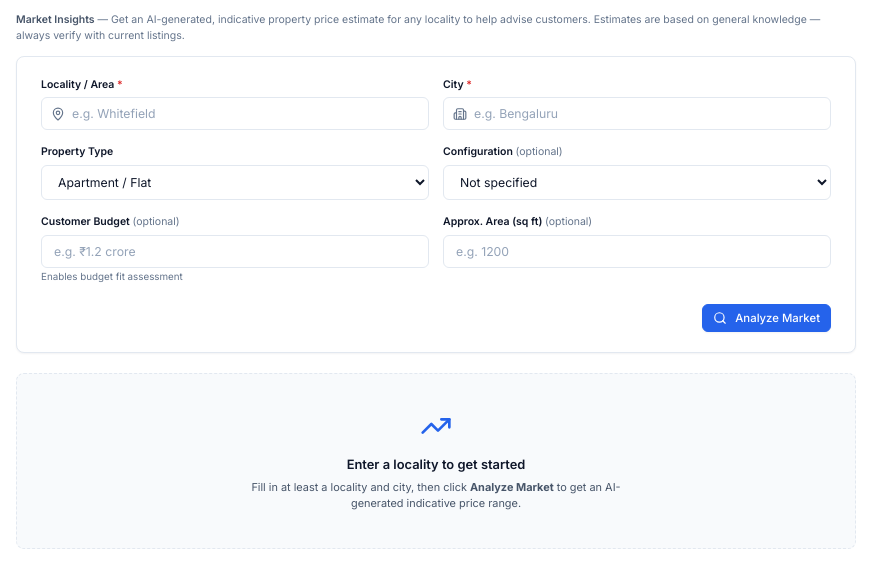
it: MarketInsights — Validation › shows validation error if locality is missing
Type "Bengaluru" into the field with placeholder "e.g. Bengaluru".
click(637, 114); type("Bengaluru")  # box [443,97,831,130]
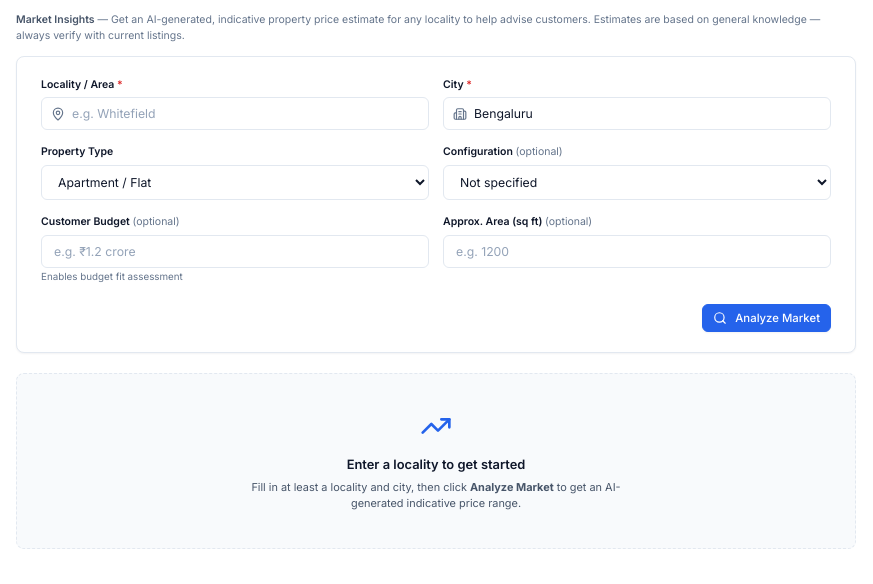
Click the button "Analyze Market".
click(767, 318)  # box [702,304,831,332]
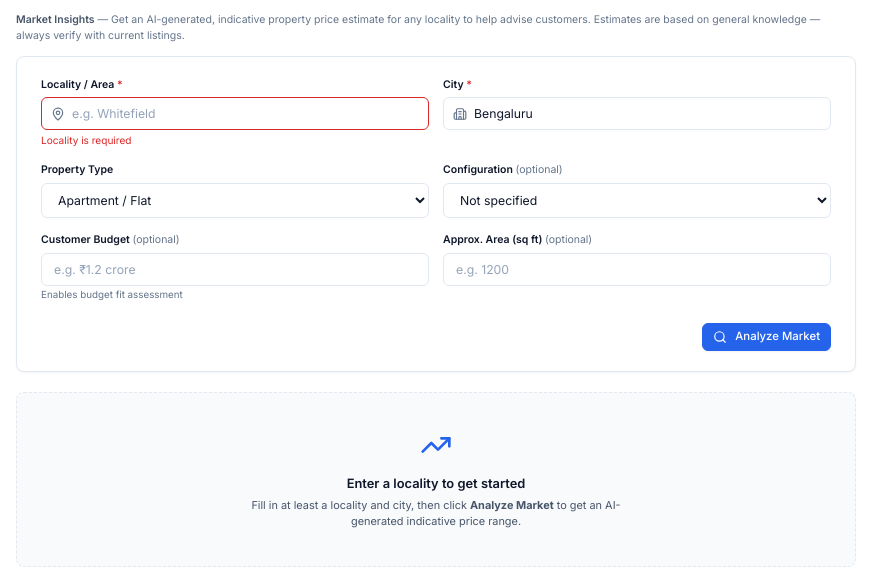
Now the text "Locality is required" is shown, box [41,134,132,146]
